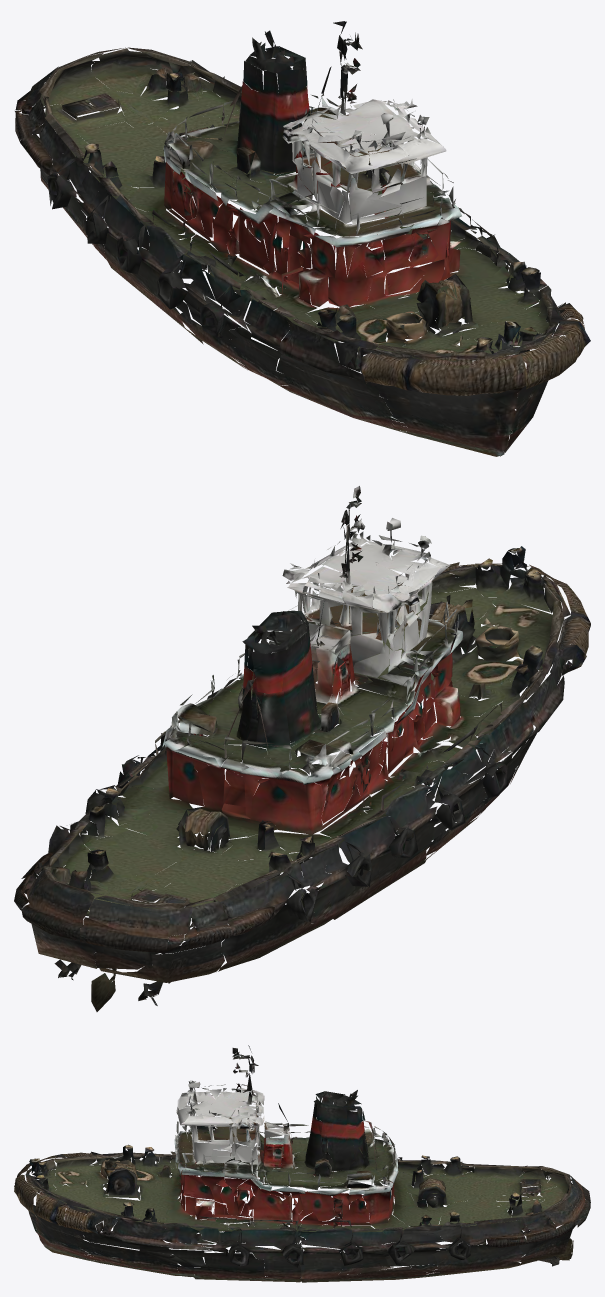
File: h_tug_lo.glb
The picture shows the model from 3 angles, top to bottom: view 1: azimuth 30°, elevation 25°; view 2: azimuth 150°, elevation 25°; view 3: azimuth 270°, elevation 25°; orthographic projection. The views are drawn at different scales.
Parts seen in each view (by area): view 1: tripo_node_651ebf0c-2676-4ee0-b689-15eb897aca77; view 2: tripo_node_651ebf0c-2676-4ee0-b689-15eb897aca77; view 3: tripo_node_651ebf0c-2676-4ee0-b689-15eb897aca77.
Boxes of the visible parts, box(x1,y1,x2,y2) form: tripo_node_651ebf0c-2676-4ee0-b689-15eb897aca77: box(15, 21, 590, 456); tripo_node_651ebf0c-2676-4ee0-b689-15eb897aca77: box(14, 486, 590, 1011); tripo_node_651ebf0c-2676-4ee0-b689-15eb897aca77: box(14, 1045, 590, 1282).
Size of the model in its own units: 0.374 by 0.4048 by 0.9804.
Materials: 1 (1 with a texture image).
